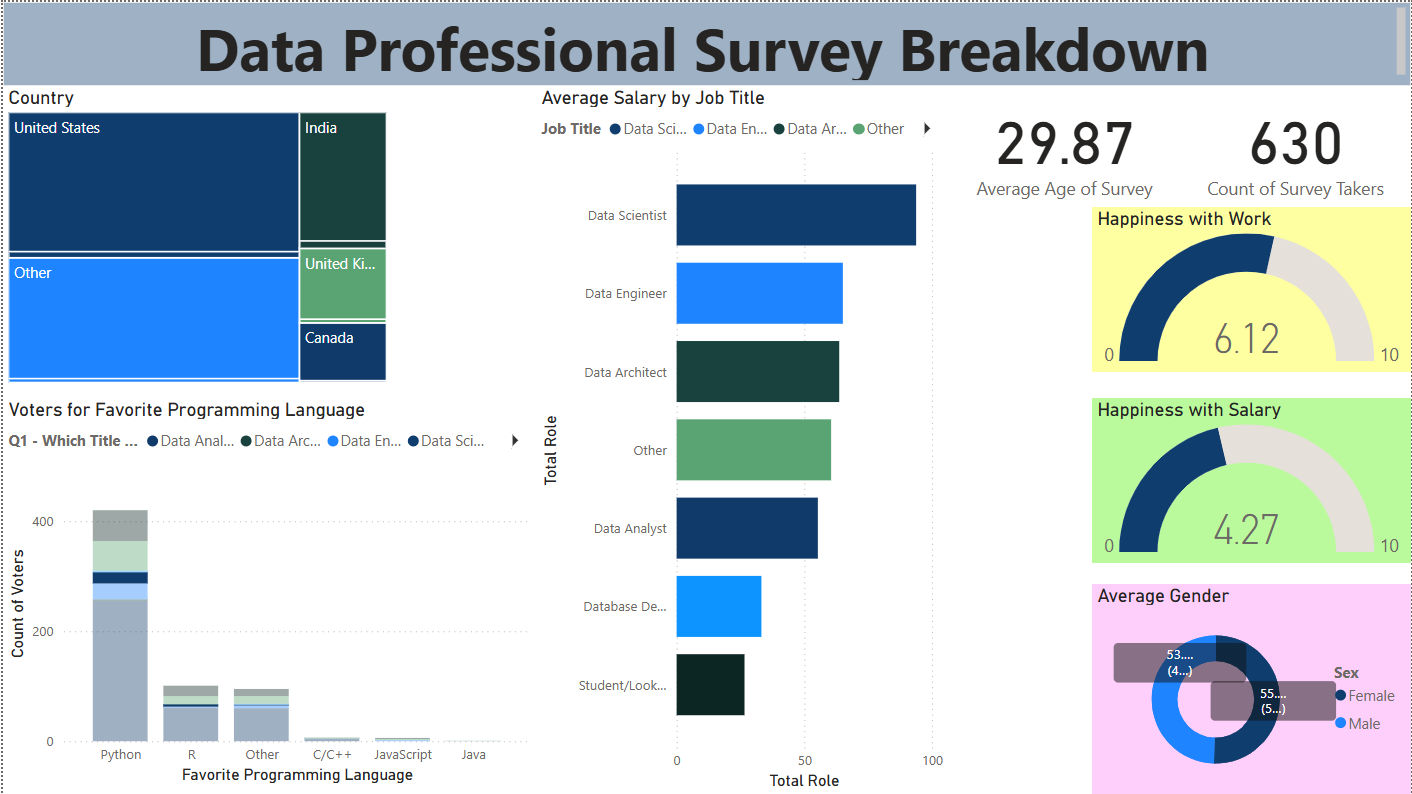

Layout of this report page (visuals, bound fields, positions):
{"tool":"powerbi","page":{"name":"Final Project","canvas":[1280,720],"ordinal":5},"visuals":[{"type":"textbox","box":[0,0,1280,76.4],"z":0},{"type":"card","fields":{"Values":["Count(Data Professional Survey.Unique ID)"]},"box":[1070,76.4,210,110],"z":1},{"type":"card","fields":{"Values":["Avg(Data Professional Survey.Q10 - Current Age)"]},"box":[860,76.4,210,110],"z":2},{"type":"barChart","title":"Average Salary by Job Title","fields":{"Category":["Data Professional Survey.Q1 - Which Title Best Fits your Current Role?.1"],"Y":["Avg(Data Professional Survey.Average Salary )"],"Series":["Data Professional Survey.Q1 - Which Title Best Fits your Current Role?.1"]},"box":[484.5,76.4,375.5,643.6],"z":3},{"type":"columnChart","title":"Voters for Favorite Programming Language","fields":{"Category":["Data Professional Survey.Q5 - Favorite Programming Language.1"],"Y":["CountNonNull(Data Professional Survey.Unique ID)"],"Series":["Data Professional Survey.Q1 - Which Title Best Fits your Current Role?.1"]},"box":[0,360,484.5,355.5],"z":4},{"type":"treemap","title":"Country","fields":{"Group":["Data Professional Survey.Q11 - Which Country do you live in?.1"],"Values":["CountNonNull(Data Professional Survey.Q11 - Which Country do you live in?.1)"]},"box":[0,76.4,353.6,274.5],"z":5},{"type":"gauge","title":"Happiness with Work","fields":{"Y":["Avg(Data Professional Survey.Q6 - How Happy are you in your Current Position with the following? (Work/Life Balance))"],"MinValue":["Min(Data Professional Survey.Q6 - How Happy are you in your Current Position with the following? (Work/Life Balance))1"],"MaxValue":["Max(Data Professional Survey.Q6 - How Happy are you in your Current Position with the following? (Work/Life Balance))2"]},"box":[990,186.4,290,150],"z":6},{"type":"gauge","title":"Happiness with Salary","fields":{"Y":["Avg(Data Professional Survey.Q6 - How Happy are you in your Current Position with the following? (Salary))"],"MinValue":["Min(Data Professional Survey.Q6 - How Happy are you in your Current Position with the following? (Salary))"],"MaxValue":["Max(Data Professional Survey.Q6 - How Happy are you in your Current Position with the following? (Salary))"]},"box":[990,360,290,150],"z":7},{"type":"donutChart","title":"Average Gender","fields":{"Category":["Data Professional Survey.Q9 - Male/Female?"],"Y":["Avg(Data Professional Survey.Average Salary )"]},"box":[990,529.1,290,190.9],"z":8}]}

Visuals, with their boxes in screenshot pixels (x1, y1, x2, y2), scaled from the page's 1280x720 canvas onto the 1412x794 screenshot:
textbox: select_region(0, 0, 1411, 84)
card - Count(Data Professional Survey.Unique ID): select_region(1180, 84, 1411, 206)
card - Avg(Data Professional Survey.Q10 - Current Age): select_region(949, 84, 1180, 206)
"Average Salary by Job Title" barChart: select_region(534, 84, 949, 793)
"Voters for Favorite Programming Language" columnChart: select_region(0, 397, 534, 789)
"Country" treemap: select_region(0, 84, 390, 387)
"Happiness with Work" gauge: select_region(1092, 206, 1411, 371)
"Happiness with Salary" gauge: select_region(1092, 397, 1411, 562)
"Average Gender" donutChart: select_region(1092, 583, 1411, 793)
